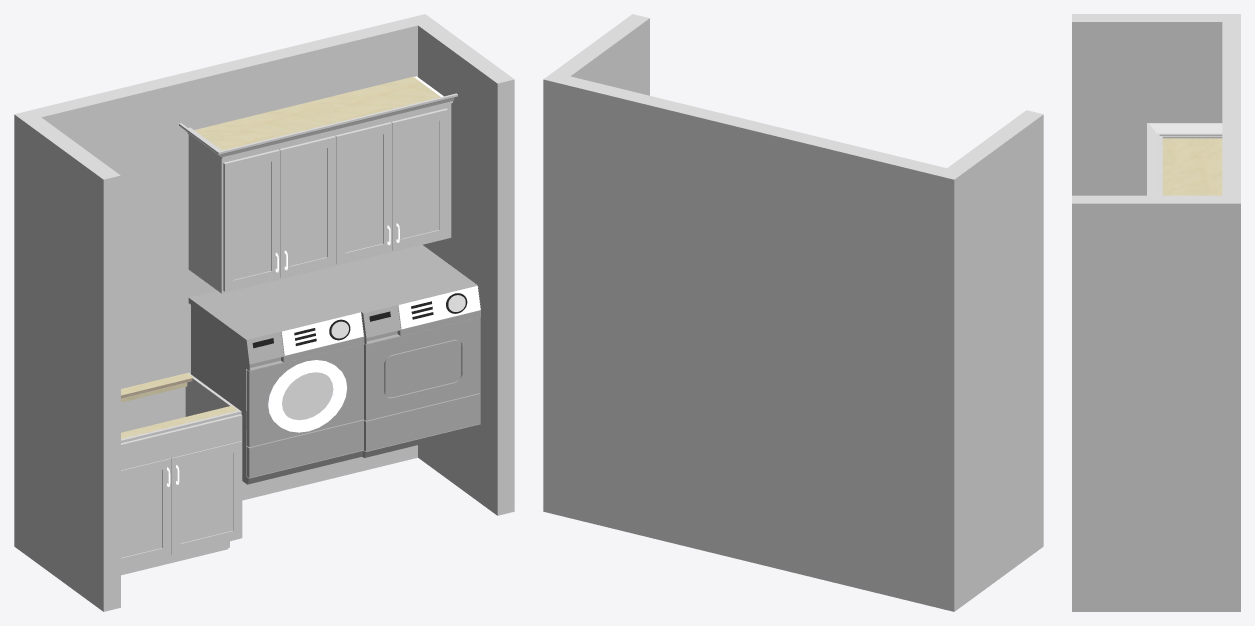
Rendered from Laundry.dae.
3 renders of one model, left to right at view 1: azimuth 30°, elevation 25°; view 2: azimuth 150°, elevation 25°; view 3: azimuth 270°, elevation 25°, orthographic. The views are drawn at different scales.
Parts seen in each view (by area): view 1: N_WALL-Sh1001d230_Wall_Wall_Room_1a, N_WALL-Sh1001c7e0_Wall_Wall_Room_2a, N_WALL-Sh1001cab0_Wall_Wall_Room_371a, N_S_APPLIANCE-Sh8dd013c0_Appliance_WasherDryer_Room_8a, N_S_APPLIANCE-Sh8dd01ff0_Appliance_WasherDryer_Room_16a, N_TO-Sh86828da0_Upper_Cabinet_Assembly_108a, N_CHROME-Sh8dd01b10_Appliance_WasherDryer_Room_9a, N_LF-Sh868398f0_Upper_Cabinet_Assembly_25a, N_DFP-Sh8dd01220_Door_Door_366a, N_DFP-Sh8dd17c80_Door_Door_214a, N_DFP-Sh8dcfd050_Door_Door_227a, N_DFP-Sh8dd146e0_Door_Door_241a (+21 smaller); view 2: N_WALL-Sh1001c7e0_Wall_Wall_Room_2a, N_WALL-Sh1001d230_Wall_Wall_Room_1a, N_WALL-Sh1001cab0_Wall_Wall_Room_371a; view 3: N_WALL-Sh1001cab0_Wall_Wall_Room_371a, N_WALL-Sh1001d230_Wall_Wall_Room_1a, N_TO-Sh86828da0_Upper_Cabinet_Assembly_108a, N_WALL-Sh1001c7e0_Wall_Wall_Room_2a, N_CROWN-Sh886e8ba0_Molding_Molding_Molding_369a, N_CROWN-Sh886e8ba0_Molding_Molding_Molding_370a.
Boxes of the visible parts, box(x1,y1,x2,y2) form: N_WALL-Sh1001d230_Wall_Wall_Room_1a: box(14, 114, 120, 611); N_WALL-Sh1001c7e0_Wall_Wall_Room_2a: box(15, 14, 424, 500); N_WALL-Sh1001cab0_Wall_Wall_Room_371a: box(418, 14, 514, 515); N_S_APPLIANCE-Sh8dd013c0_Appliance_WasherDryer_Room_8a: box(188, 273, 364, 484); N_S_APPLIANCE-Sh8dd01ff0_Appliance_WasherDryer_Room_16a: box(308, 245, 480, 457); N_TO-Sh86828da0_Upper_Cabinet_Assembly_108a: box(194, 76, 440, 150); N_CHROME-Sh8dd01b10_Appliance_WasherDryer_Room_9a: box(246, 312, 363, 432); N_LF-Sh868398f0_Upper_Cabinet_Assembly_25a: box(188, 135, 219, 291); N_DFP-Sh8dd01220_Door_Door_366a: box(180, 452, 233, 543); N_DFP-Sh8dd17c80_Door_Door_214a: box(233, 162, 270, 279); N_DFP-Sh8dcfd050_Door_Door_227a: box(289, 148, 326, 266); N_DFP-Sh8dd146e0_Door_Door_241a: box(345, 134, 382, 252); N_WALL-Sh1001c7e0_Wall_Wall_Room_2a: box(543, 76, 954, 611); N_WALL-Sh1001d230_Wall_Wall_Room_1a: box(947, 110, 1043, 611); N_WALL-Sh1001cab0_Wall_Wall_Room_371a: box(544, 14, 649, 95); N_WALL-Sh1001cab0_Wall_Wall_Room_371a: box(1072, 195, 1240, 611); N_WALL-Sh1001d230_Wall_Wall_Room_1a: box(1072, 14, 1240, 195); N_TO-Sh86828da0_Upper_Cabinet_Assembly_108a: box(1162, 138, 1222, 195); N_WALL-Sh1001c7e0_Wall_Wall_Room_2a: box(1222, 14, 1240, 203); N_CROWN-Sh886e8ba0_Molding_Molding_Molding_369a: box(1147, 123, 1222, 135); N_CROWN-Sh886e8ba0_Molding_Molding_Molding_370a: box(1147, 123, 1159, 195).
Bounding box in the file's own units: 108 × 108 × 40.5.
